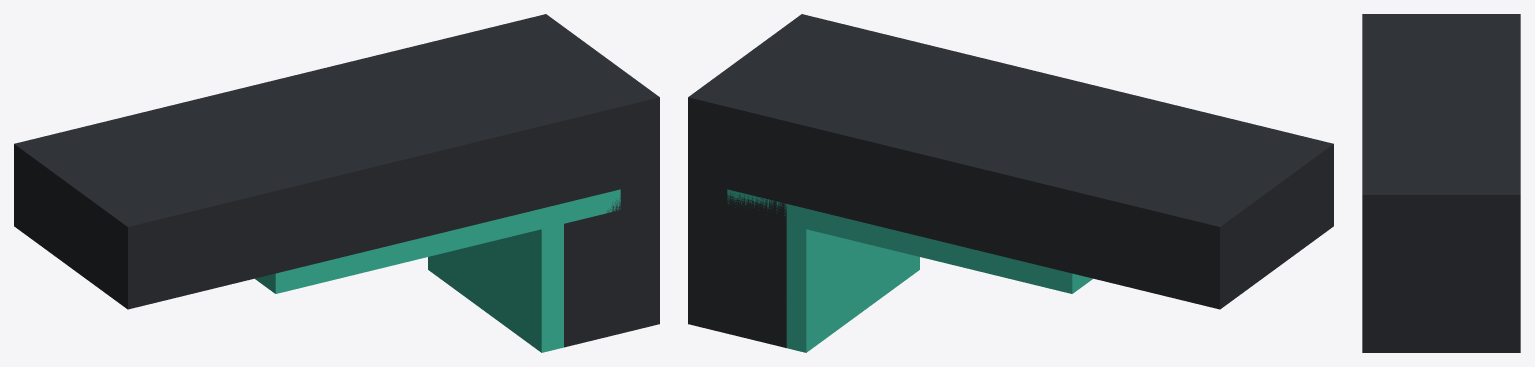
The model's file is finger_l.obj.
3 views of the same model, side by side, from view 1: azimuth 30°, elevation 25°; view 2: azimuth 150°, elevation 25°; view 3: azimuth 270°, elevation 25° (orthographic). The views are drawn at different scales.
Parts seen in each view (by area): view 1: finger_l; view 2: finger_l; view 3: finger_l.
Boxes of the visible parts, box(x1,y1,x2,y2) form: finger_l: box(14, 14, 659, 352); finger_l: box(688, 14, 1333, 352); finger_l: box(1362, 14, 1520, 352).
Bounding box in the file's own units: 0.108 × 0.044 × 0.04.
